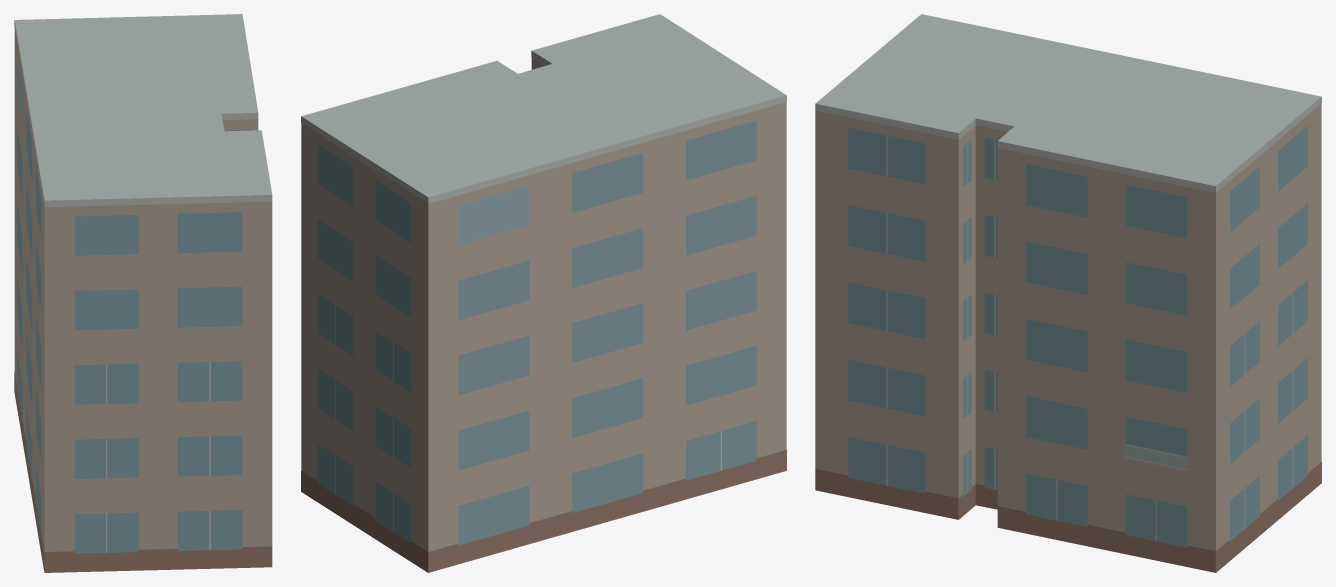
File: survey-upis-32950964.glb
3 views of the same model, side by side, from view 1: azimuth 30°, elevation 25°; view 2: azimuth 150°, elevation 25°; view 3: azimuth 270°, elevation 25° (orthographic). The views are drawn at different scales.
Parts seen in each view (by area): view 1: survey-upis-32950964.tmp; view 2: survey-upis-32950964.tmp; view 3: survey-upis-32950964.tmp.
Boxes of the visible parts, left/top/right/bottom form: survey-upis-32950964.tmp: left=14, top=14, right=272, bottom=572; survey-upis-32950964.tmp: left=301, top=14, right=786, bottom=572; survey-upis-32950964.tmp: left=815, top=14, right=1321, bottom=572.
Size of the model in its own units: 13.19 by 13.8 by 16.39.
